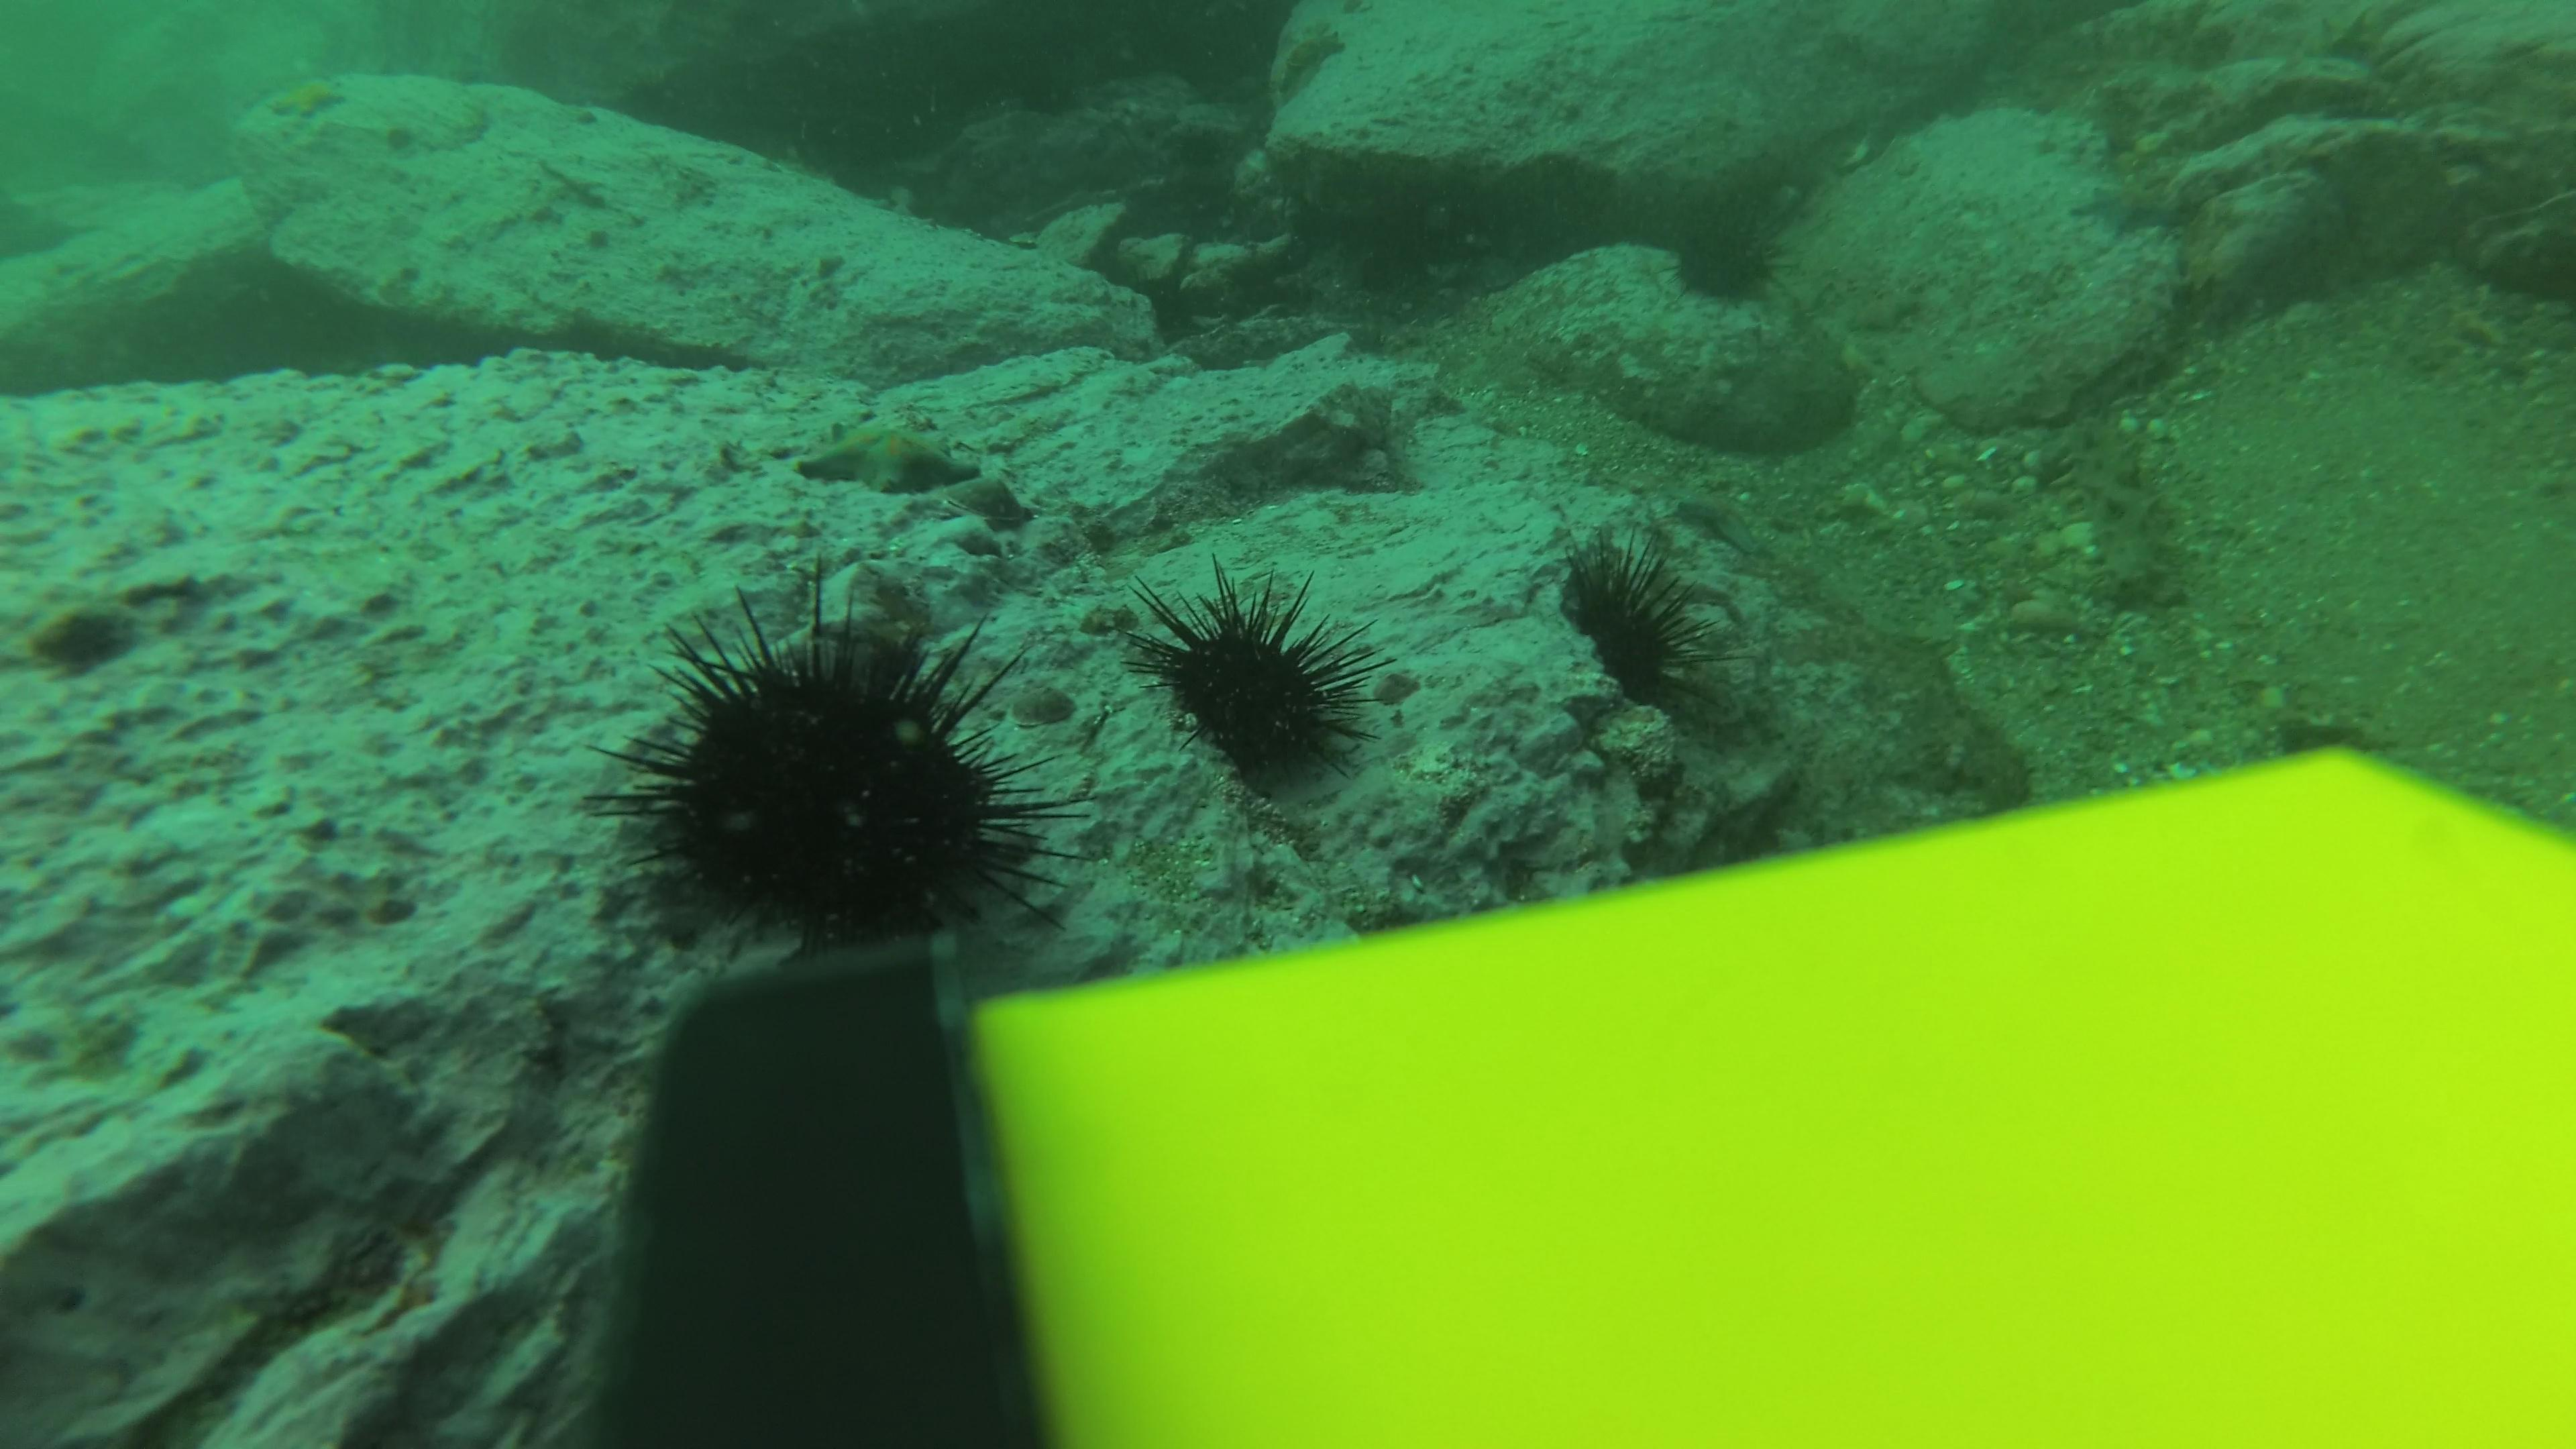urchin: (609, 594, 1058, 954), (1529, 506, 1780, 731), (1143, 570, 1361, 777)
